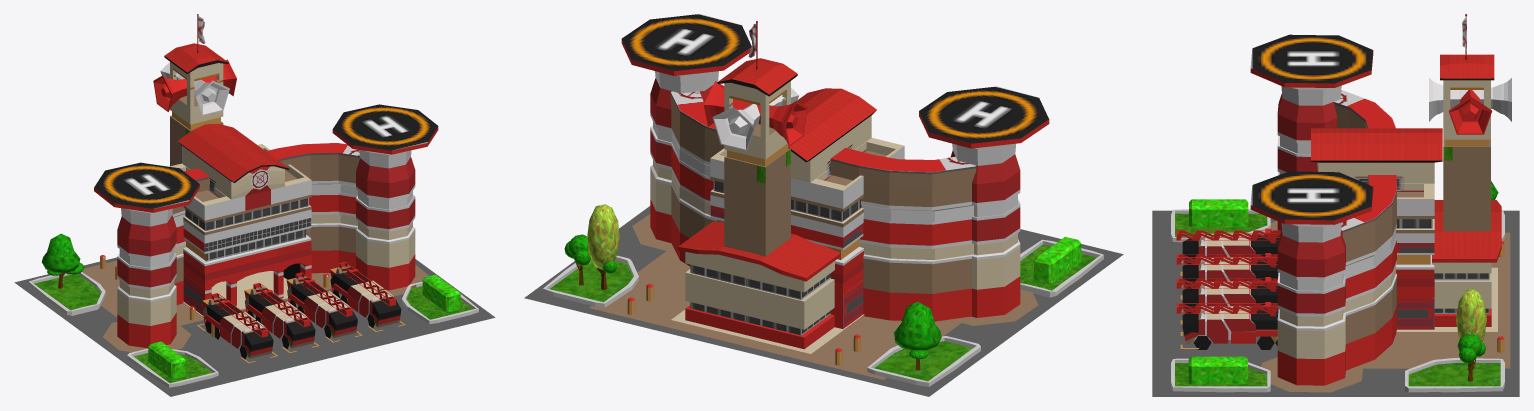
The model's file is firestation_LV3.fbx.
3 renders of one model, left to right at view 1: azimuth 30°, elevation 25°; view 2: azimuth 150°, elevation 25°; view 3: azimuth 270°, elevation 25°, orthographic. The views are drawn at different scales.
Parts seen in each view (by area): view 1: firestation 3; view 2: firestation 3; view 3: firestation 3.
Boxes of the visible parts, left/top/right/bottom form: firestation 3: left=14, top=14, right=495, bottom=396; firestation 3: left=524, top=14, right=1123, bottom=396; firestation 3: left=1152, top=14, right=1519, bottom=396.
Bounding box in the file's own units: 120 × 87.09 × 100.
